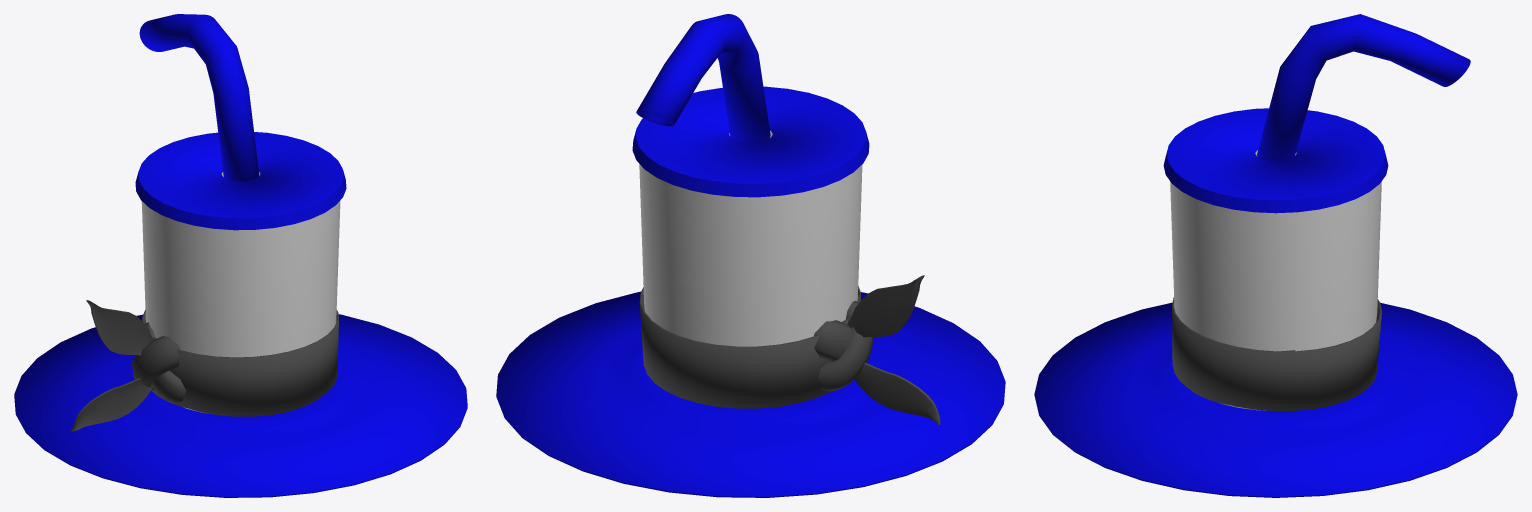
File: NEW FAST HAT.fbx
The picture shows the model from 3 angles, left to right: view 1: azimuth 30°, elevation 25°; view 2: azimuth 150°, elevation 25°; view 3: azimuth 270°, elevation 25°; orthographic projection. The views are drawn at different scales.
Parts seen in each view (by area): view 1: FAST HAT; view 2: FAST HAT; view 3: FAST HAT.
Part boxes in pixels (x1,y1,x2,y2): FAST HAT: [14, 14, 467, 497]; FAST HAT: [496, 14, 1005, 497]; FAST HAT: [1034, 14, 1517, 497].
Bounding box in the file's own units: 187 × 162 × 187.
